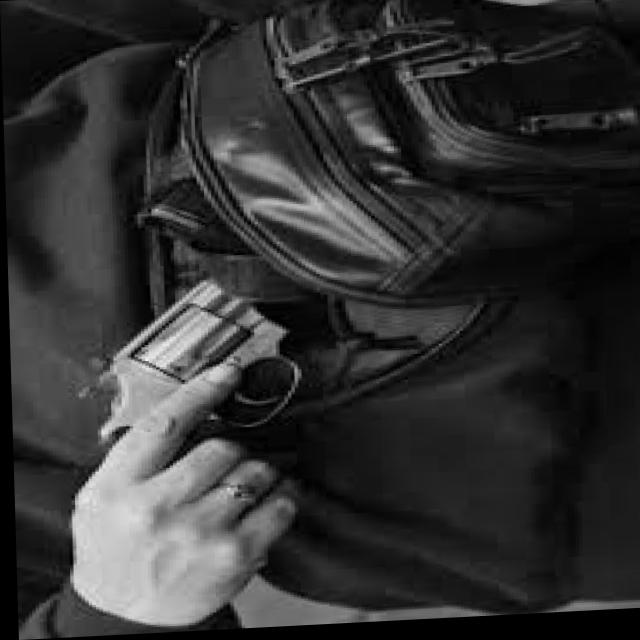handgun: (73, 263, 307, 458)
